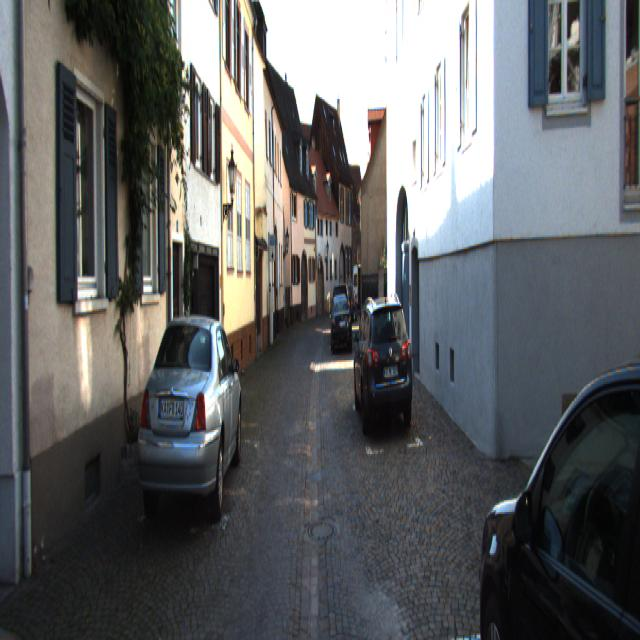Car: (469, 273, 639, 638), (136, 310, 242, 542), (352, 292, 414, 438), (331, 294, 351, 352), (353, 262, 373, 313)
